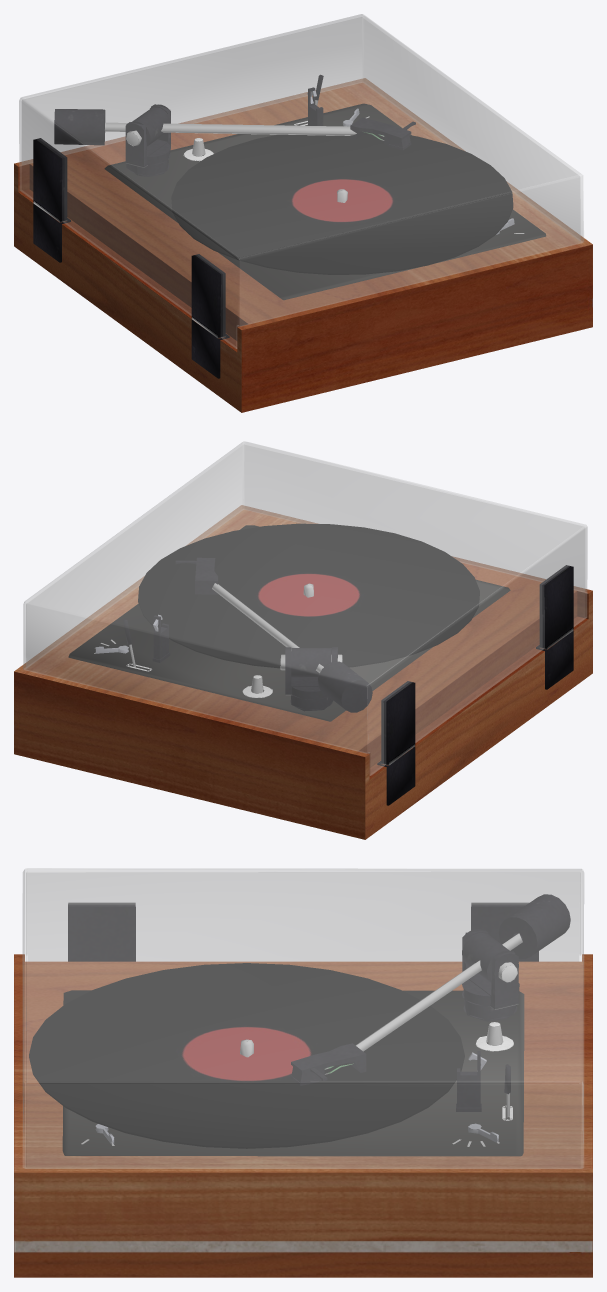
Rendered from L2_Antique5.fbx.
3 views of the same model, one above another, from view 1: azimuth 30°, elevation 25°; view 2: azimuth 150°, elevation 25°; view 3: azimuth 270°, elevation 25° (orthographic). The views are drawn at different scales.
Visible parts, largest first — view 1: L2_LR_TapeRecorder; view 2: L2_LR_TapeRecorder; view 3: L2_LR_TapeRecorder.
Part boxes in pixels (box(x1,y1,x2,y2)): L2_LR_TapeRecorder: box(14, 14, 592, 412); L2_LR_TapeRecorder: box(14, 441, 592, 839); L2_LR_TapeRecorder: box(14, 868, 592, 1277).
Bounding box in the file's own units: 0.3544 × 0.1455 × 0.3953.
Materials: 2 (1 with a texture image).
